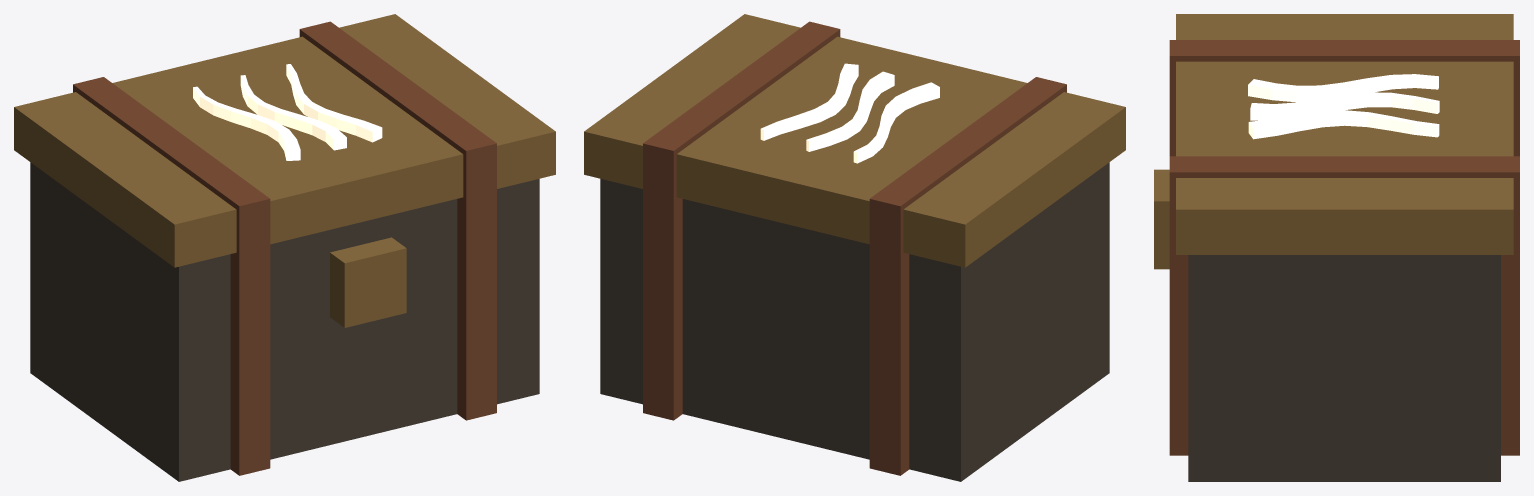
Rendered from sealed_box_tobacco.glb.
3 renders of one model, left to right at view 1: azimuth 30°, elevation 25°; view 2: azimuth 150°, elevation 25°; view 3: azimuth 270°, elevation 25°, orthographic. The views are drawn at different scales.
Parts seen in each view (by area): view 1: sealed_box_tobacco; view 2: sealed_box_tobacco; view 3: sealed_box_tobacco.
Part boxes in pixels (x1,y1,x2,y2): sealed_box_tobacco: (14,14,555,481); sealed_box_tobacco: (584,14,1125,481); sealed_box_tobacco: (1154,14,1519,481).
Bounding box in the file's own units: 0.74 × 0.51 × 0.585.
